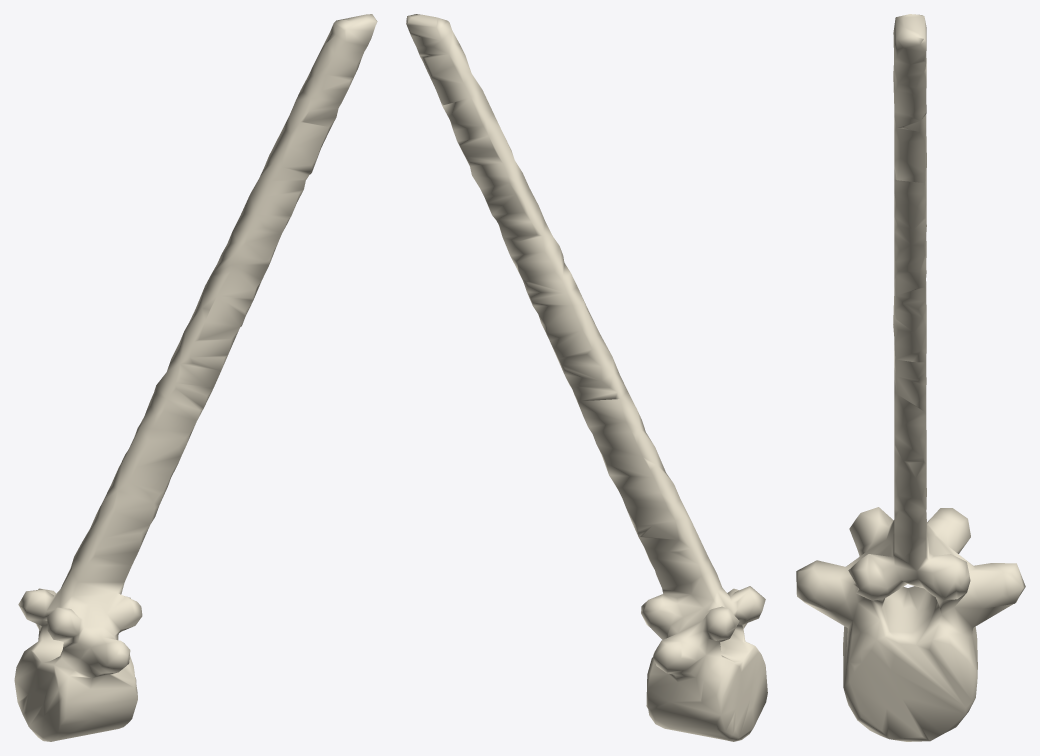
File: thoracic_4.glb
The picture shows the model from 3 angles, left to right: view 1: azimuth 30°, elevation 25°; view 2: azimuth 150°, elevation 25°; view 3: azimuth 270°, elevation 25°; orthographic projection. The views are drawn at different scales.
Parts seen in each view (by area): view 1: geometry_0; view 2: geometry_0; view 3: geometry_0.
Part boxes in pixels (x1,y1,x2,y2): geometry_0: (14,14,377,741); geometry_0: (406,14,767,741); geometry_0: (796,14,1025,741).
Bounding box in the file's own units: 0.4661 × 0.847 × 0.1986.
